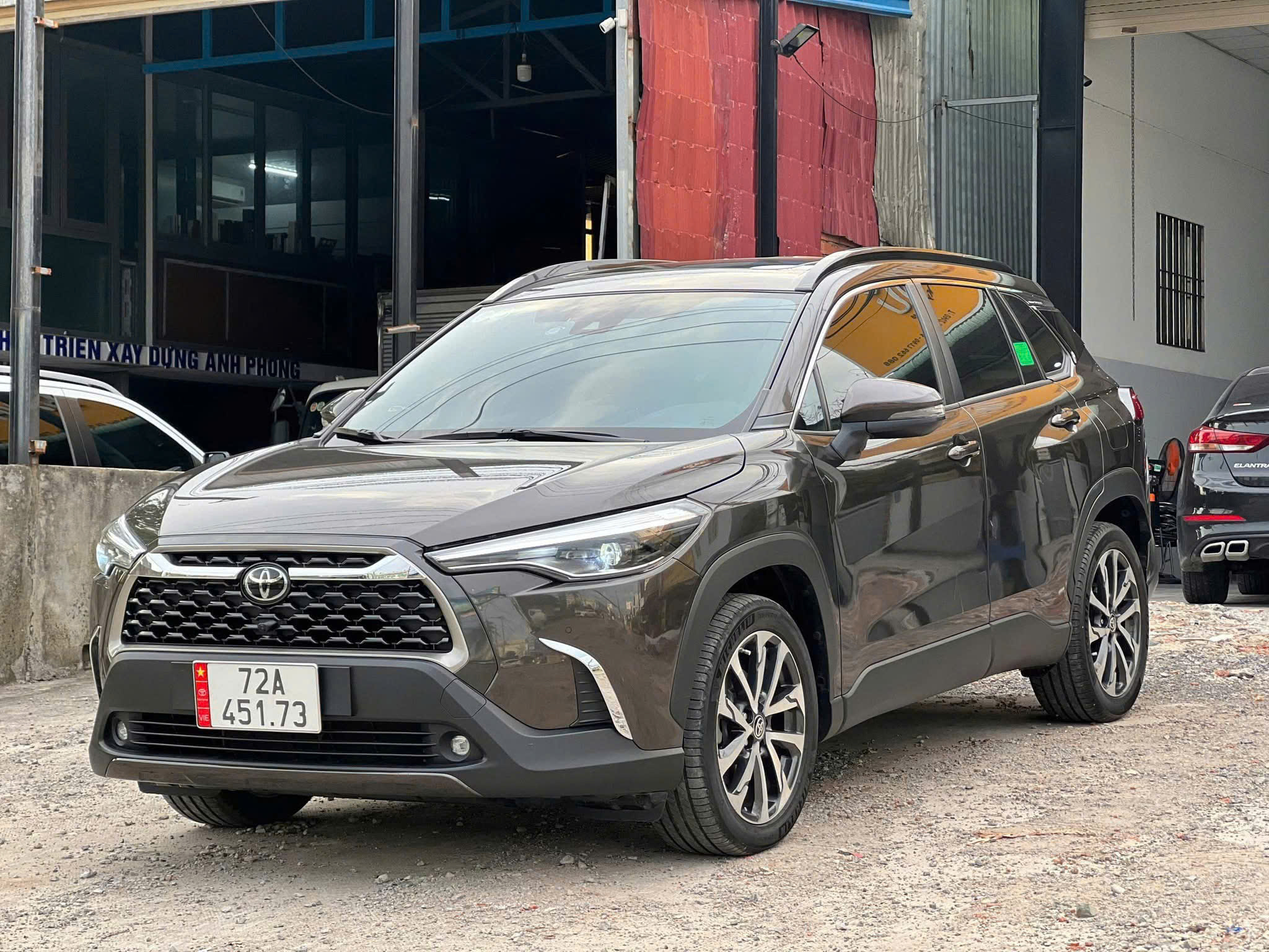Bien-so: (188, 653, 319, 736)
